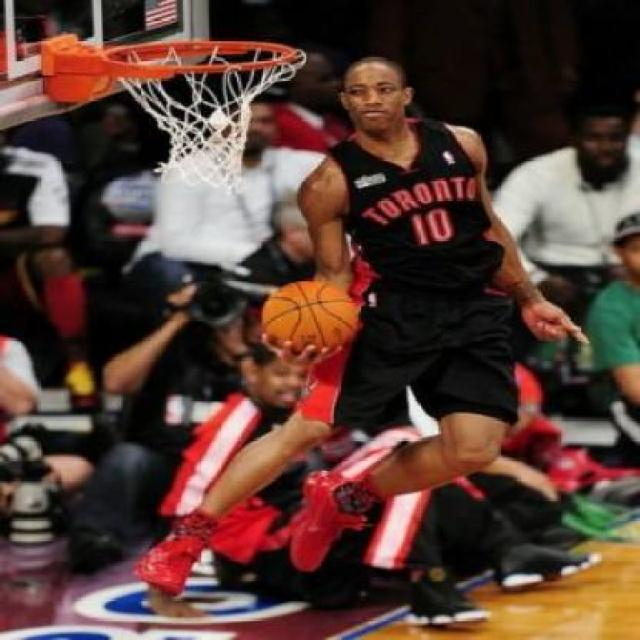basketball: (260, 279, 360, 355)
rim: (105, 39, 302, 187)
